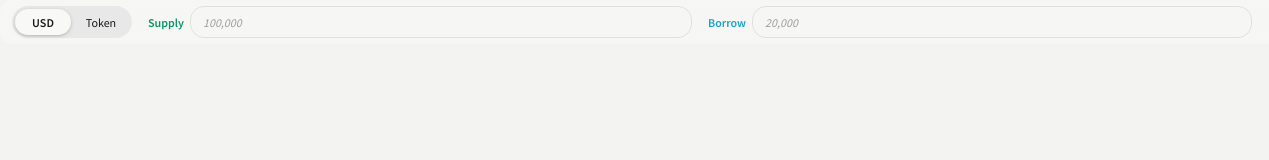
it: ScenarioControls › Desktop › clears both inputs when switching mode
The image size is (1269, 160).
Type "5000" into the field named "Supply amount".
click(441, 22); type("5000")  # box [190,6,692,38]
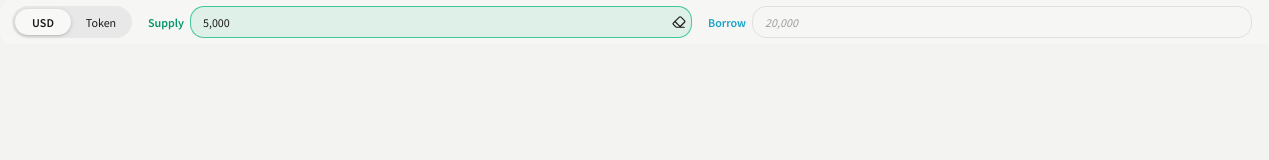
Type "2000" into the field named "Borrow amount".
click(1002, 22); type("2000")  # box [752,6,1252,38]
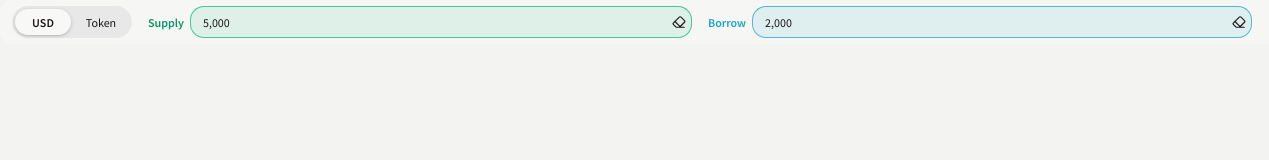
expect the field named "Supply amount" holds "5,000": met, box [190,6,692,38]
expect the field named "Borrow amount" holds "2,000": met, box [752,6,1252,38]
Click the radio button "Token".
click(101, 22)  # box [73,9,129,35]
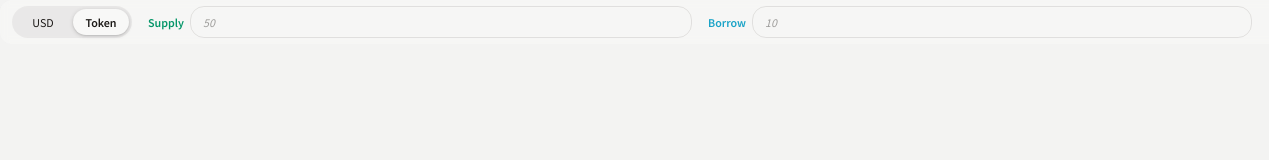
expect the field named "Supply amount" is empty: met, box [190,6,692,38]
expect the field named "Borrow amount" is empty: met, box [752,6,1252,38]
